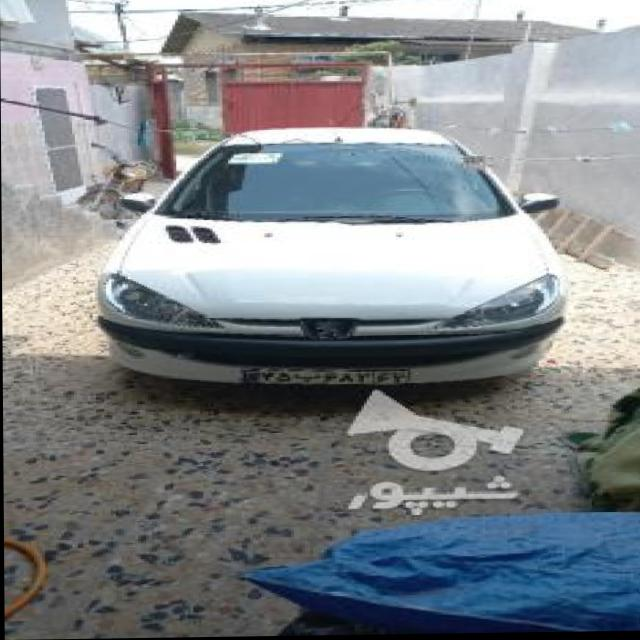licence: (235, 366, 418, 391)
